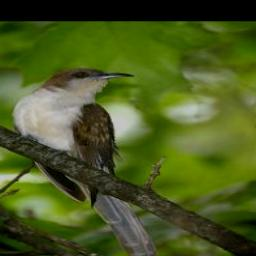Cuckoo: (9, 67, 161, 256)
